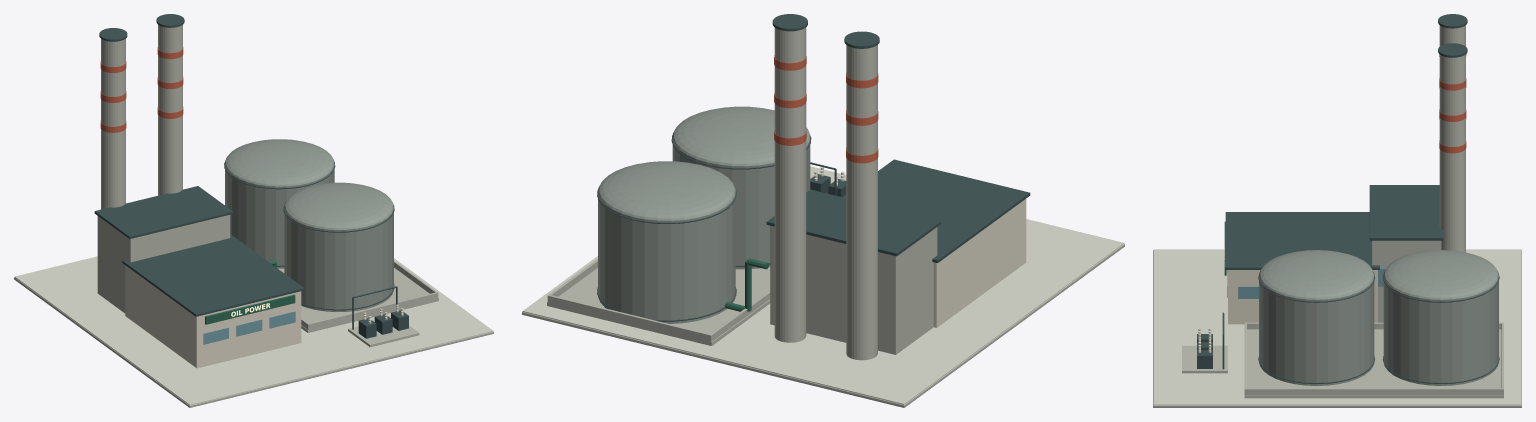
File: power-oil.glb
The picture shows the model from 3 angles, left to right: view 1: azimuth 30°, elevation 25°; view 2: azimuth 150°, elevation 25°; view 3: azimuth 270°, elevation 25°; orthographic projection. The views are drawn at different scales.
Parts seen in each view (by area): view 1: Ground, StorageTank, TurbineHallRoof, TurbineHall, BoilerUnit, StorageTank.001, TankDome, TankDome.001, BoilerUnitRoof, Stack, Stack.001, TankBund (+4 smaller); view 2: Ground, StorageTank.001, BoilerUnit, Stack.001, Stack, TurbineHallRoof, TankDome.001, TurbineHall, TankDome, StorageTank, BoilerUnitRoof, TankBund (+3 smaller); view 3: Ground, StorageTank, StorageTank.001, TurbineHallRoof, Stack.001, TankDome, TankDome.001, TankBund, BoilerUnitRoof, BundWall.001, TurbineHall, BoilerUnit (+5 smaller).
Part boxes in pixels (box(x1,y1,x2,y2)): Ground: box(15, 256, 493, 405); StorageTank: box(284, 208, 393, 311); TurbineHallRoof: box(122, 234, 304, 316); TurbineHall: box(125, 265, 301, 368); BoilerUnit: box(97, 215, 230, 313); StorageTank.001: box(225, 165, 334, 268); TankDome: box(284, 182, 393, 229); TankDome.001: box(225, 139, 334, 186); BoilerUnitRoof: box(94, 186, 233, 238); Stack: box(101, 39, 125, 209); Stack.001: box(158, 25, 182, 195); TankBund: box(278, 268, 438, 332); Ground: box(522, 166, 1124, 404); StorageTank.001: box(598, 194, 735, 323); BoilerUnit: box(770, 225, 937, 354); Stack.001: box(774, 27, 806, 342); Stack: box(846, 45, 877, 360); TurbineHallRoof: box(843, 159, 1030, 262); TankDome.001: box(598, 161, 735, 220); TurbineHall: box(933, 199, 1026, 327); TankDome: box(672, 106, 810, 166); StorageTank: box(672, 138, 810, 269); BoilerUnitRoof: box(766, 189, 940, 256); TankBund: box(547, 267, 770, 345); Ground: box(1153, 249, 1521, 405); StorageTank: box(1259, 276, 1374, 385); StorageTank.001: box(1383, 276, 1498, 385); TurbineHallRoof: box(1225, 212, 1379, 269); Stack.001: box(1439, 54, 1465, 252); TankDome: box(1259, 250, 1374, 299); TankDome.001: box(1383, 250, 1498, 299); TankBund: box(1244, 329, 1503, 398); BoilerUnitRoof: box(1369, 185, 1443, 240); BundWall.001: box(1244, 388, 1503, 394); TurbineHall: box(1228, 270, 1377, 324); BoilerUnit: box(1372, 240, 1441, 322).
Size of the model in its own units: 32 by 25.47 by 32.
